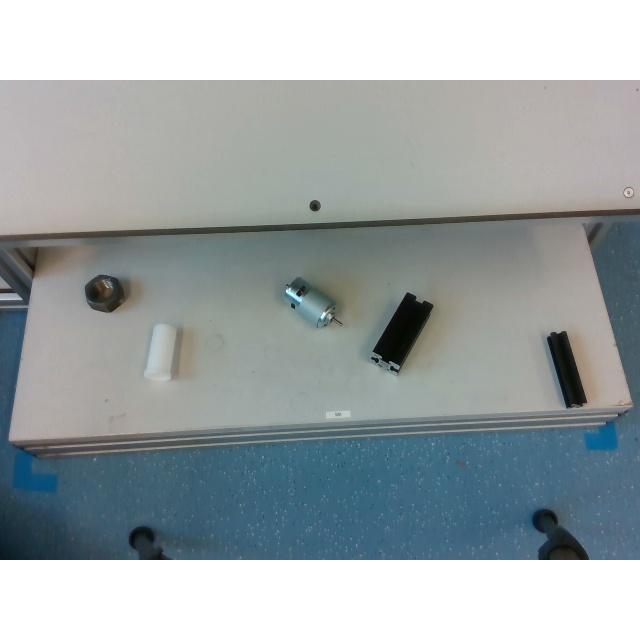F20_20_B: (548, 332, 584, 404)
M30: (84, 274, 124, 310)
Motor2: (284, 278, 340, 326)
S40_40_B: (371, 293, 433, 372)
Spacer: (144, 322, 176, 378)
